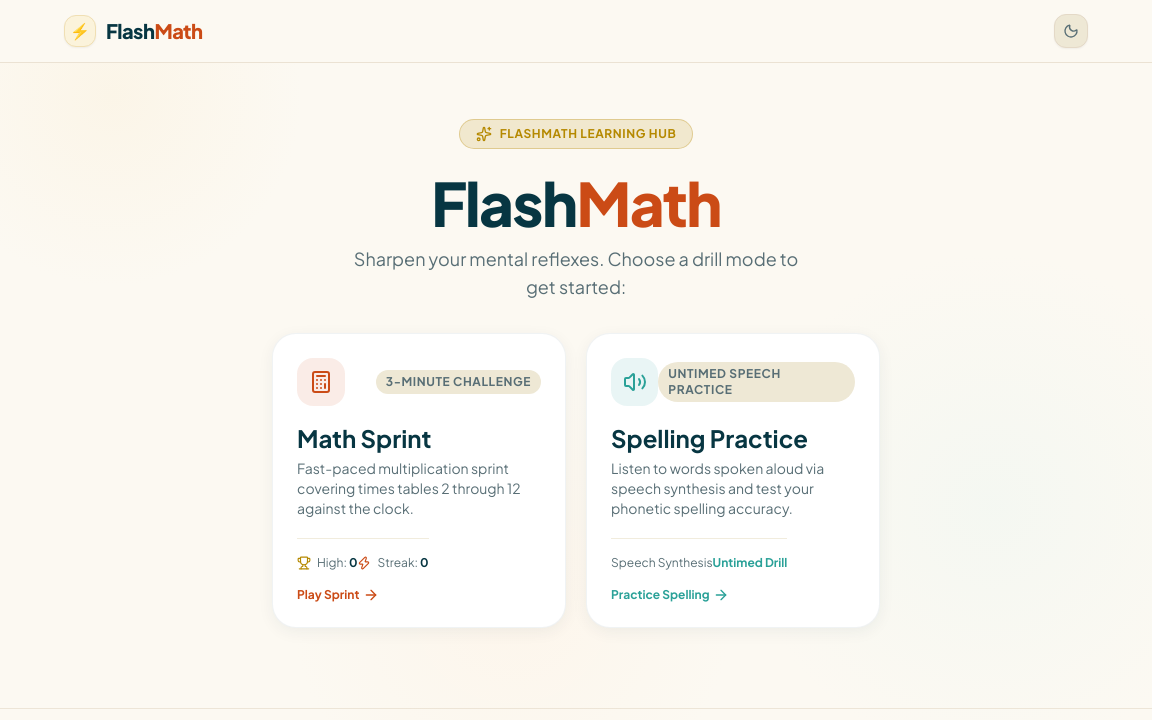
Scenario: FlashMath App Integration › toggles between light paper mode and chalkboard dark mode
The width and height of the screenshot is (1152, 720).
Toggle to dark mode
Click the button named "switch to chalkboard dark mode". click: x=1071, y=31
box: [1054,14,1088,48]
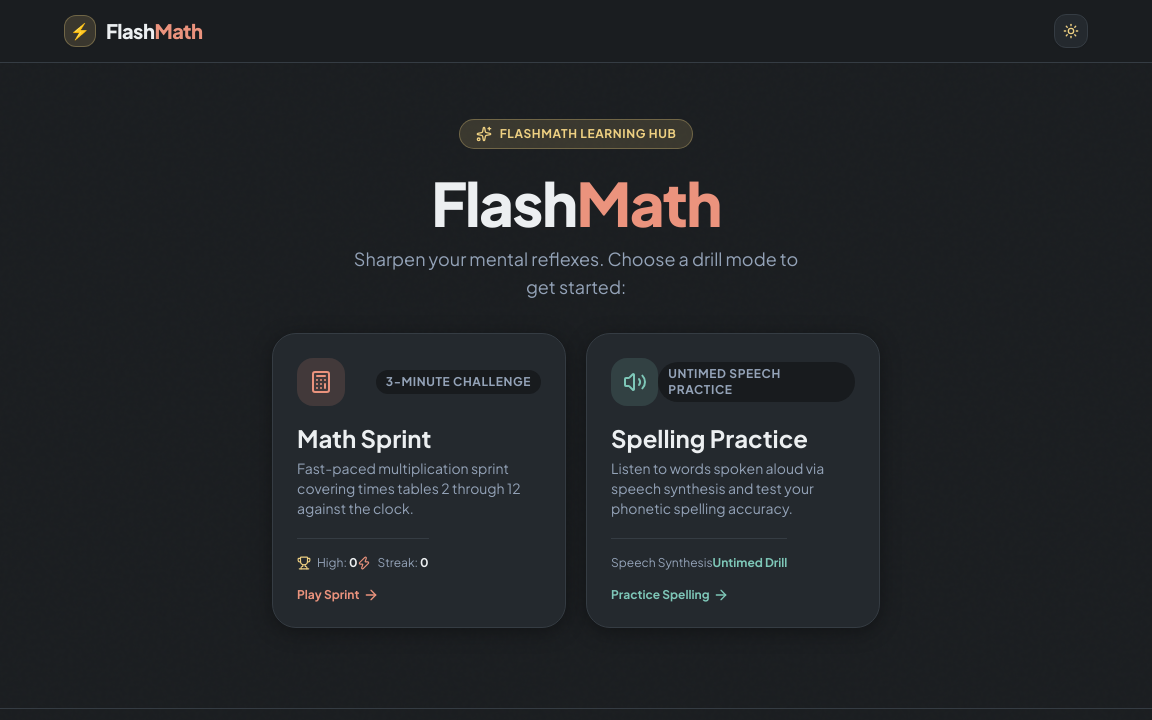
Expected: the button named "switch to paper light mode" is shown
Toggle back to light mode
Click the button named "switch to paper light mode". click: x=1071, y=31
box: [1054,14,1088,48]
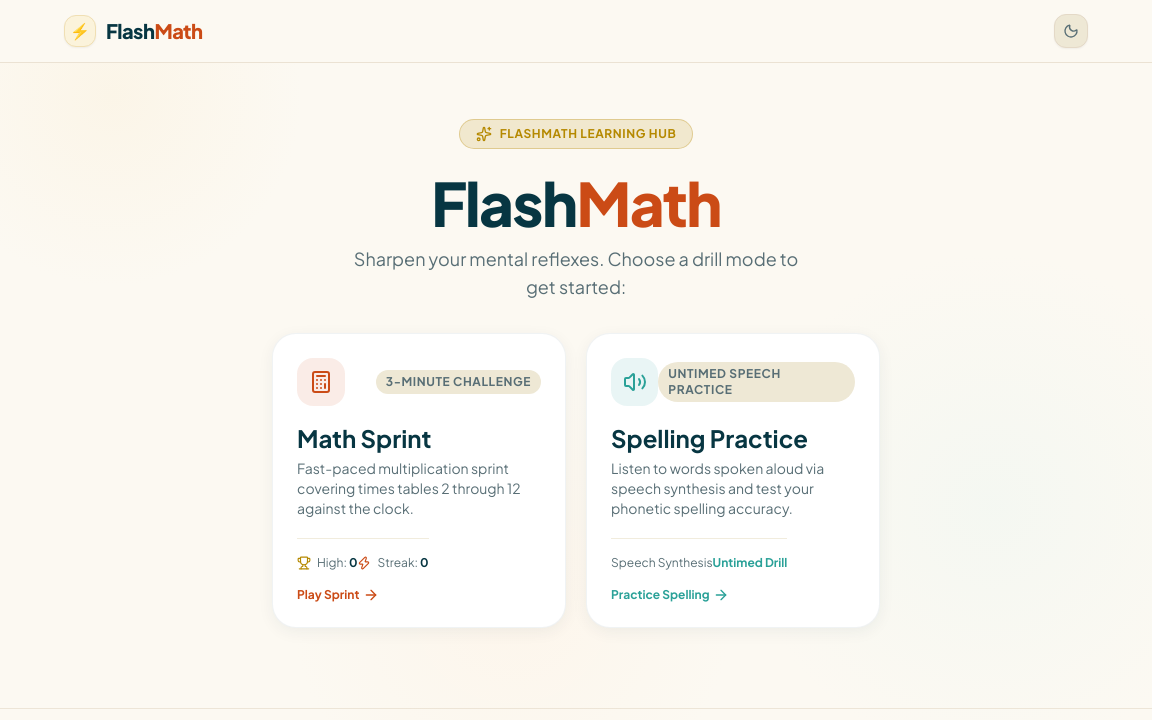
Expected: the button named "switch to chalkboard dark mode" is shown, [1054,14,1088,48]
